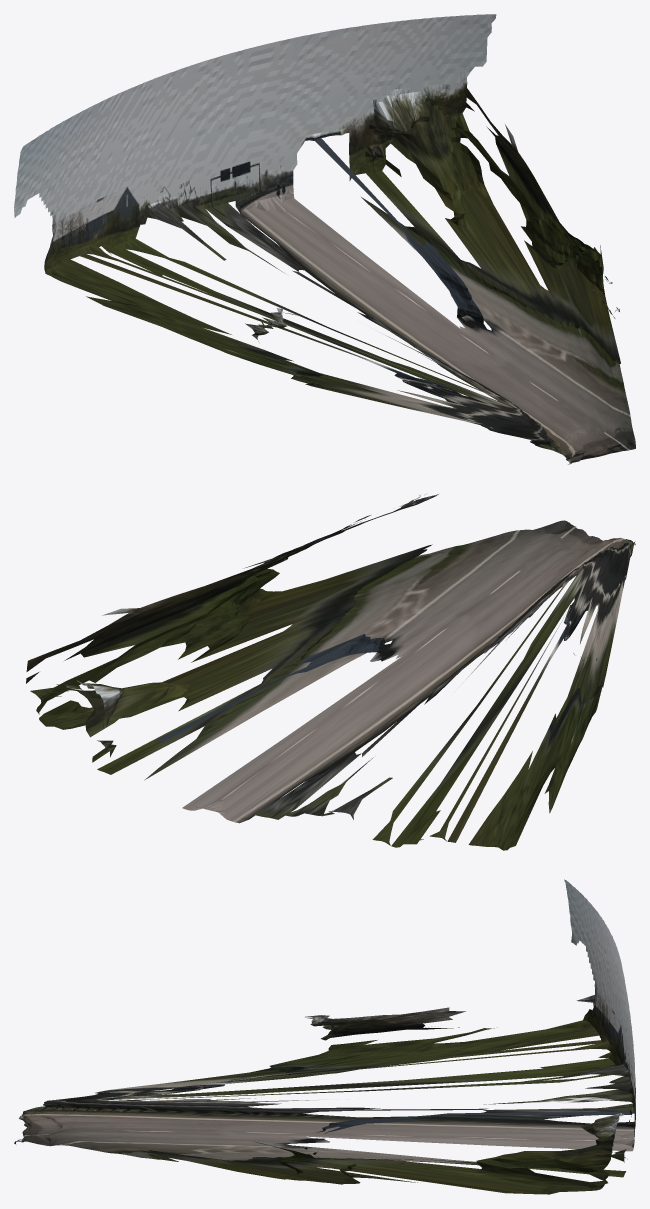
The picture shows the model from 3 angles, top to bottom: view 1: azimuth 30°, elevation 25°; view 2: azimuth 150°, elevation 25°; view 3: azimuth 270°, elevation 25°; orthographic projection. The views are drawn at different scales.
Visible parts, largest first — view 1: defaultobject; view 2: defaultobject; view 3: defaultobject.
Boxes of the visible parts, box(x1,y1,x2,y2) form: defaultobject: box(14, 14, 635, 464); defaultobject: box(26, 494, 635, 850); defaultobject: box(14, 879, 635, 1194).
Bounding box in the file's own units: 36.29 × 11.81 × 44.72.
Materials: 1 (1 with a texture image).
